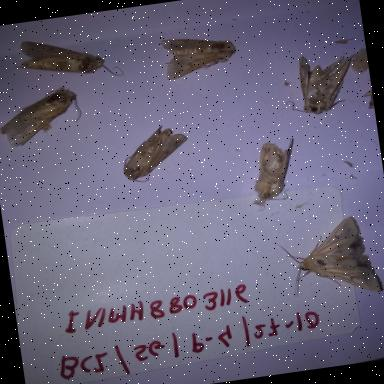abw: (269, 211, 384, 307), (8, 26, 126, 92), (277, 47, 359, 120), (0, 84, 87, 150), (116, 120, 194, 186), (152, 27, 240, 83), (245, 134, 306, 208)
